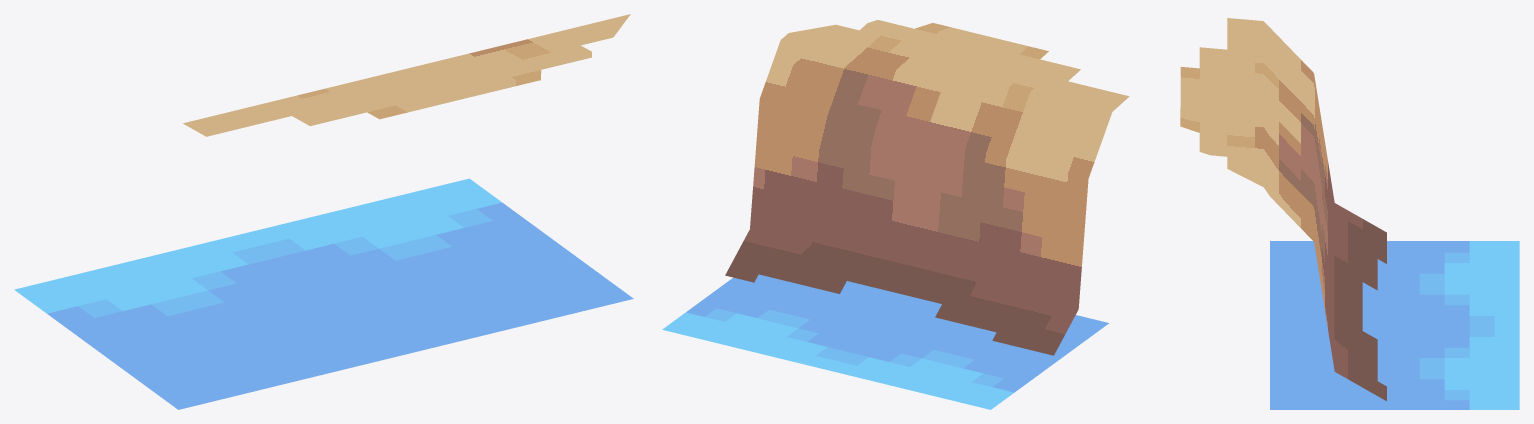
The picture shows the model from 3 angles, left to right: view 1: azimuth 30°, elevation 25°; view 2: azimuth 150°, elevation 25°; view 3: azimuth 270°, elevation 25°; orthographic projection. The views are drawn at different scales.
Bounding box in the file's own units: 1 × 0.627 × 0.8493.
Materials: 2 (2 with a texture image).
